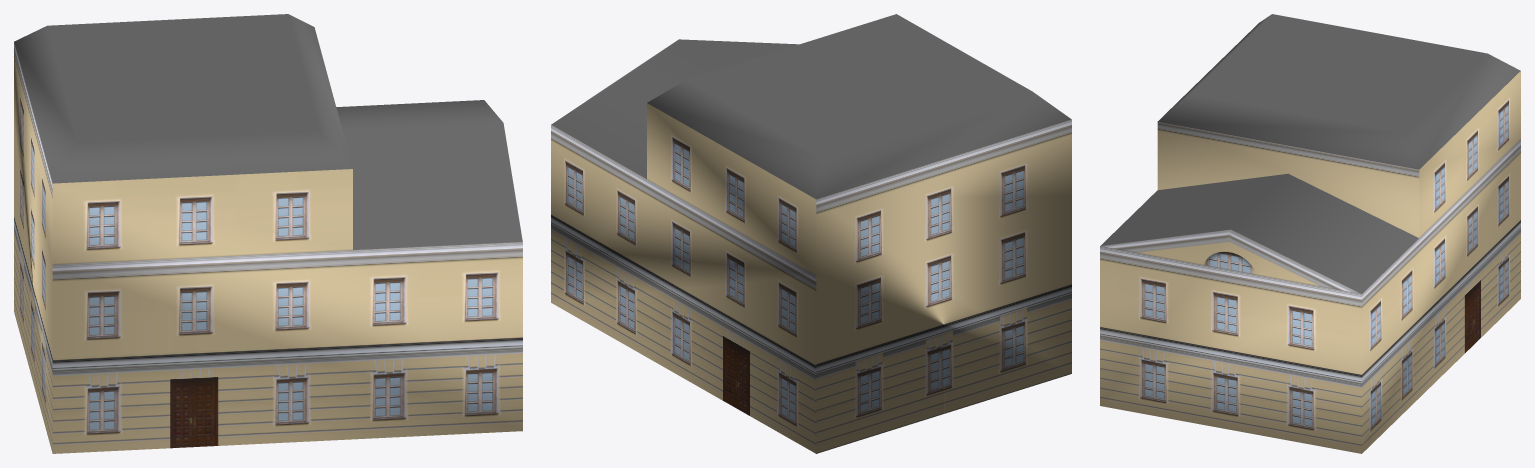
File: lp-building6.fbx
3 renders of one model, left to right at view 1: azimuth 30°, elevation 25°; view 2: azimuth 150°, elevation 25°; view 3: azimuth 270°, elevation 25°, orthographic. The views are drawn at different scales.
Parts seen in each view (by area): view 1: 01houses.005; view 2: 01houses.005; view 3: 01houses.005.
Part boxes in pixels (box(x1,y1,x2,y2)): 01houses.005: box(14, 14, 522, 453); 01houses.005: box(551, 14, 1071, 453); 01houses.005: box(1100, 14, 1520, 453).
Bounding box in the file's own units: 750 × 433 × 658.
Materials: 1 (1 with a texture image).
